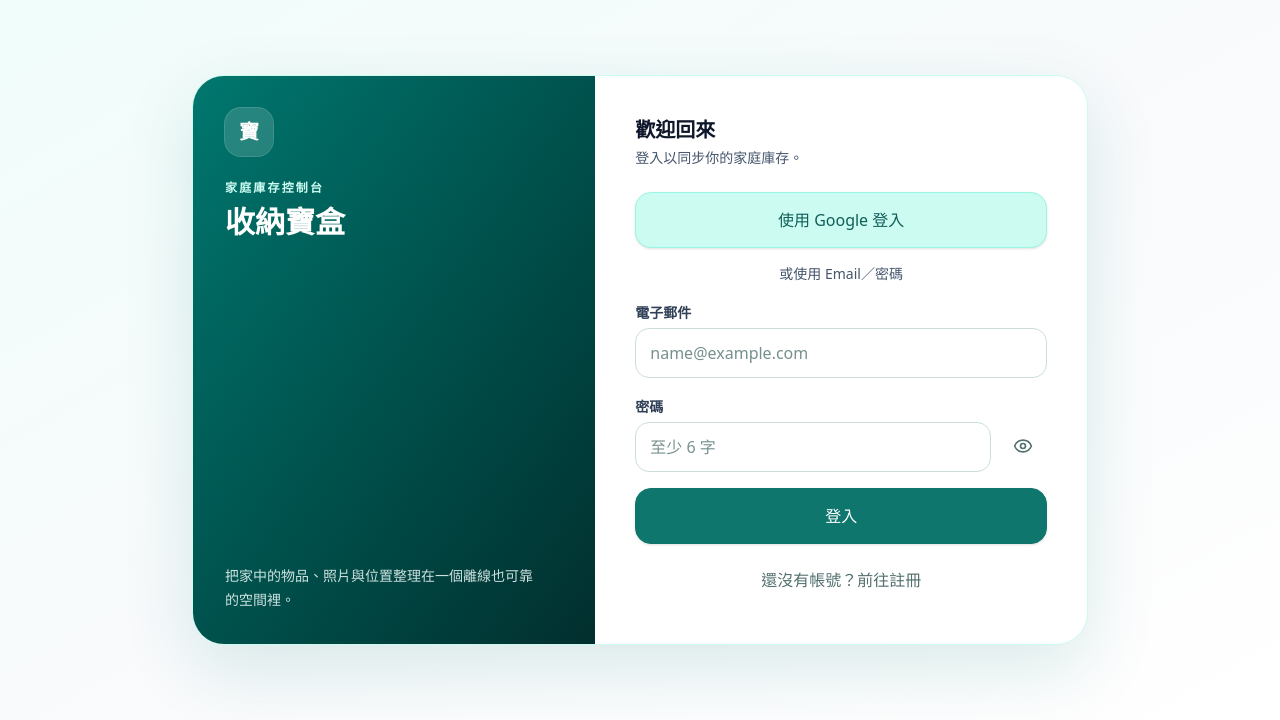
Scenario: dual login › shows Google on both login and signup, outside the required Email form
This screenshot has width=1280, height=720.
Step 1. Click the button "還沒有帳號？前往註冊" → (841, 580), box [635,556,1047,604]
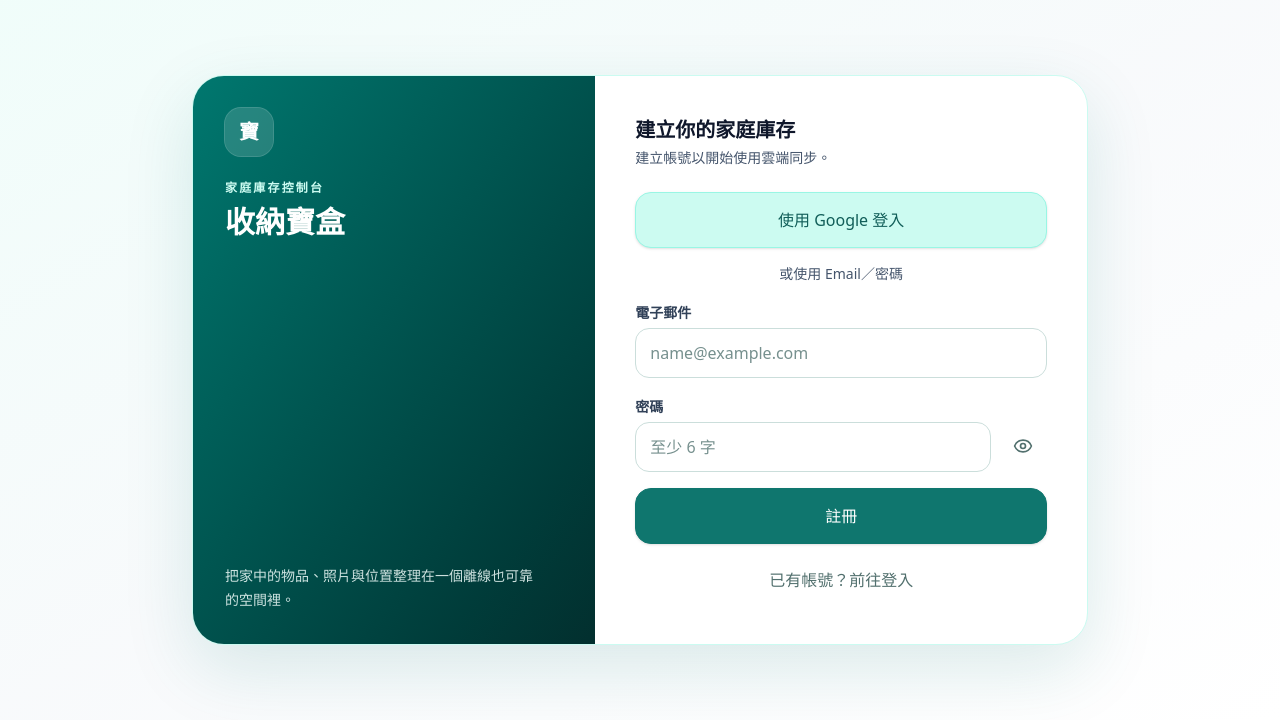
Expected: the button "使用 Google 登入" is shown, [635,192,1047,248]
Now the button "註冊" is shown, box [635,488,1047,544]
